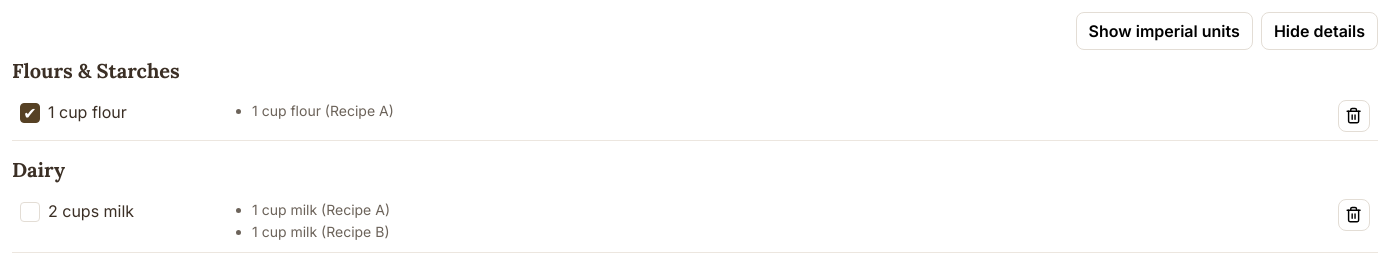
Test case: CombinedShoppingList › should hide ingredient details when "Hide details" is clicked
Click the button "Hide details".
click(1319, 31)  # box x1=1261 y1=12 x2=1378 y2=50
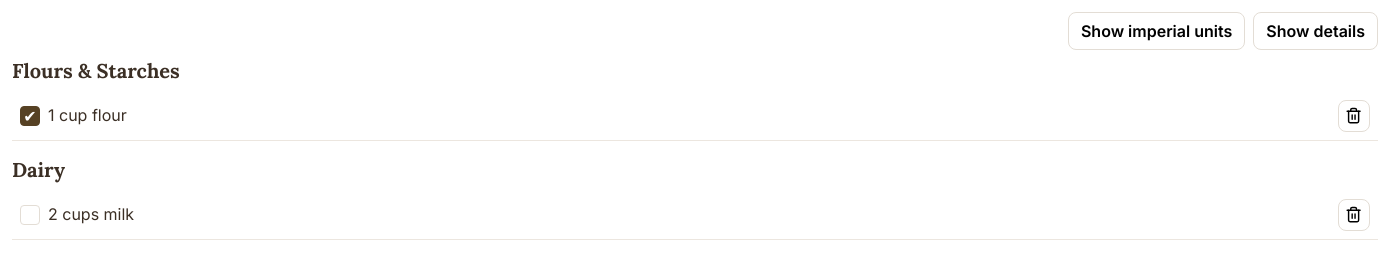
Expected: the checkbox labelled "2 cups milk" is shown, x1=20 y1=205 x2=40 y2=225
Now the list item "1 cup milk (Recipe A)" is gone
Now the button "Show details" is shown, box x1=1253 y1=12 x2=1378 y2=50
